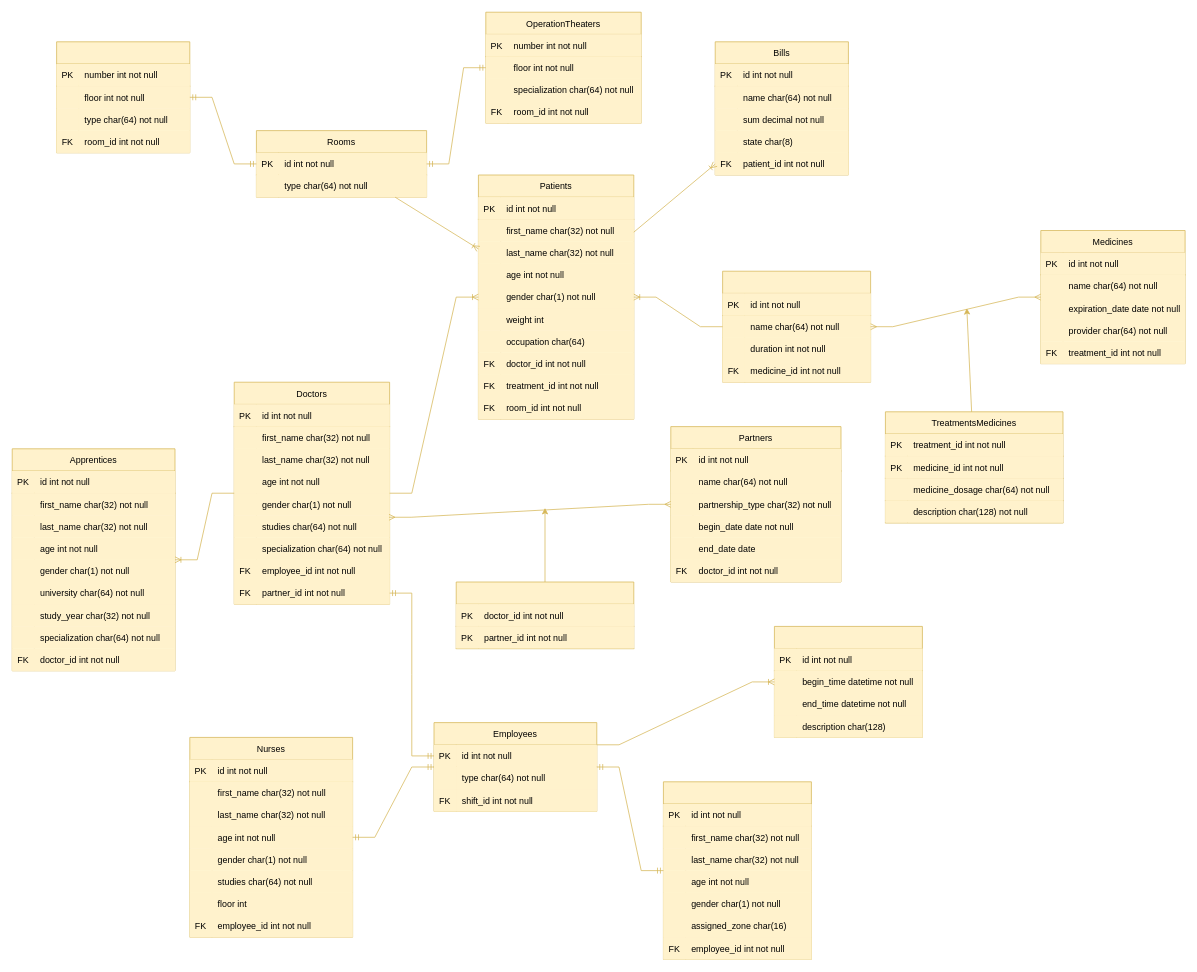
Image size: 1197x972. Some labels were removed from this diagram. Each missing label, with the box of its shape:
DoctorsPartners: (455, 581, 634, 649)
ICUs: (56, 41, 190, 153)
Shifts: (774, 626, 922, 737)
Treatments: (722, 270, 871, 382)
Watchmen: (663, 781, 811, 959)
